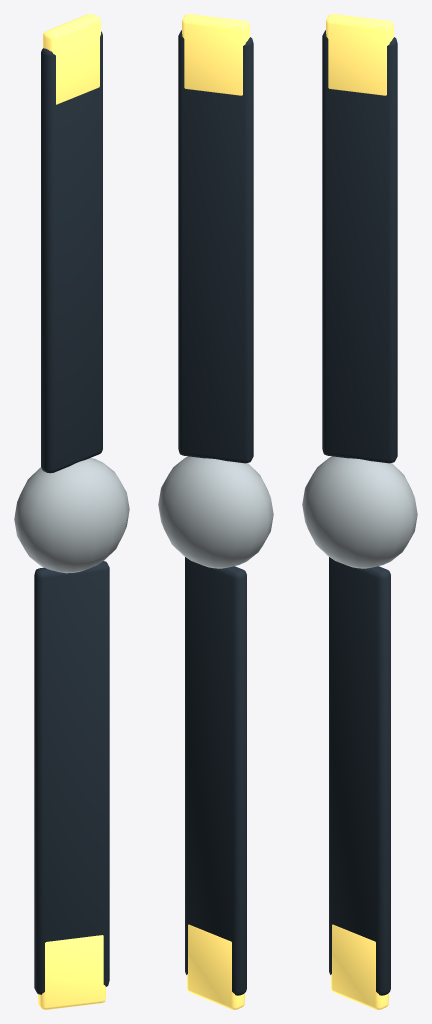
Rendered from avita_prop.glb.
The picture shows the model from 3 angles, left to right: view 1: azimuth 30°, elevation 25°; view 2: azimuth 150°, elevation 25°; view 3: azimuth 330°, elevation 25°; orthographic projection.
Visible parts, largest first — view 1: Blade_-1, Blade_1, PropHub, BladeTip_-1, BladeTip_1; view 2: Blade_1, Blade_-1, PropHub, BladeTip_1, BladeTip_-1; view 3: Blade_1, Blade_-1, PropHub, BladeTip_1, BladeTip_-1.
Part boxes in pixels (x1=…): Blade_-1: x1=34, y1=561, x2=109, y2=994; Blade_1: x1=41, y1=31, x2=102, y2=473; PropHub: x1=14, y1=458, x2=129, y2=573; BladeTip_-1: x1=38, y1=935, x2=105, y2=1009; BladeTip_1: x1=43, y1=14, x2=100, y2=104; Blade_1: x1=178, y1=30, x2=253, y2=463; Blade_-1: x1=185, y1=557, x2=246, y2=995; PropHub: x1=158, y1=456, x2=273, y2=568; BladeTip_1: x1=182, y1=14, x2=249, y2=95; BladeTip_-1: x1=187, y1=924, x2=244, y2=1009; Blade_1: x1=322, y1=30, x2=397, y2=463; Blade_-1: x1=329, y1=557, x2=390, y2=995; PropHub: x1=302, y1=456, x2=417, y2=568; BladeTip_1: x1=326, y1=14, x2=393, y2=95; BladeTip_-1: x1=331, y1=924, x2=388, y2=1009.
Size of the model in its own units: 0.3 by 2.68 by 0.24.
